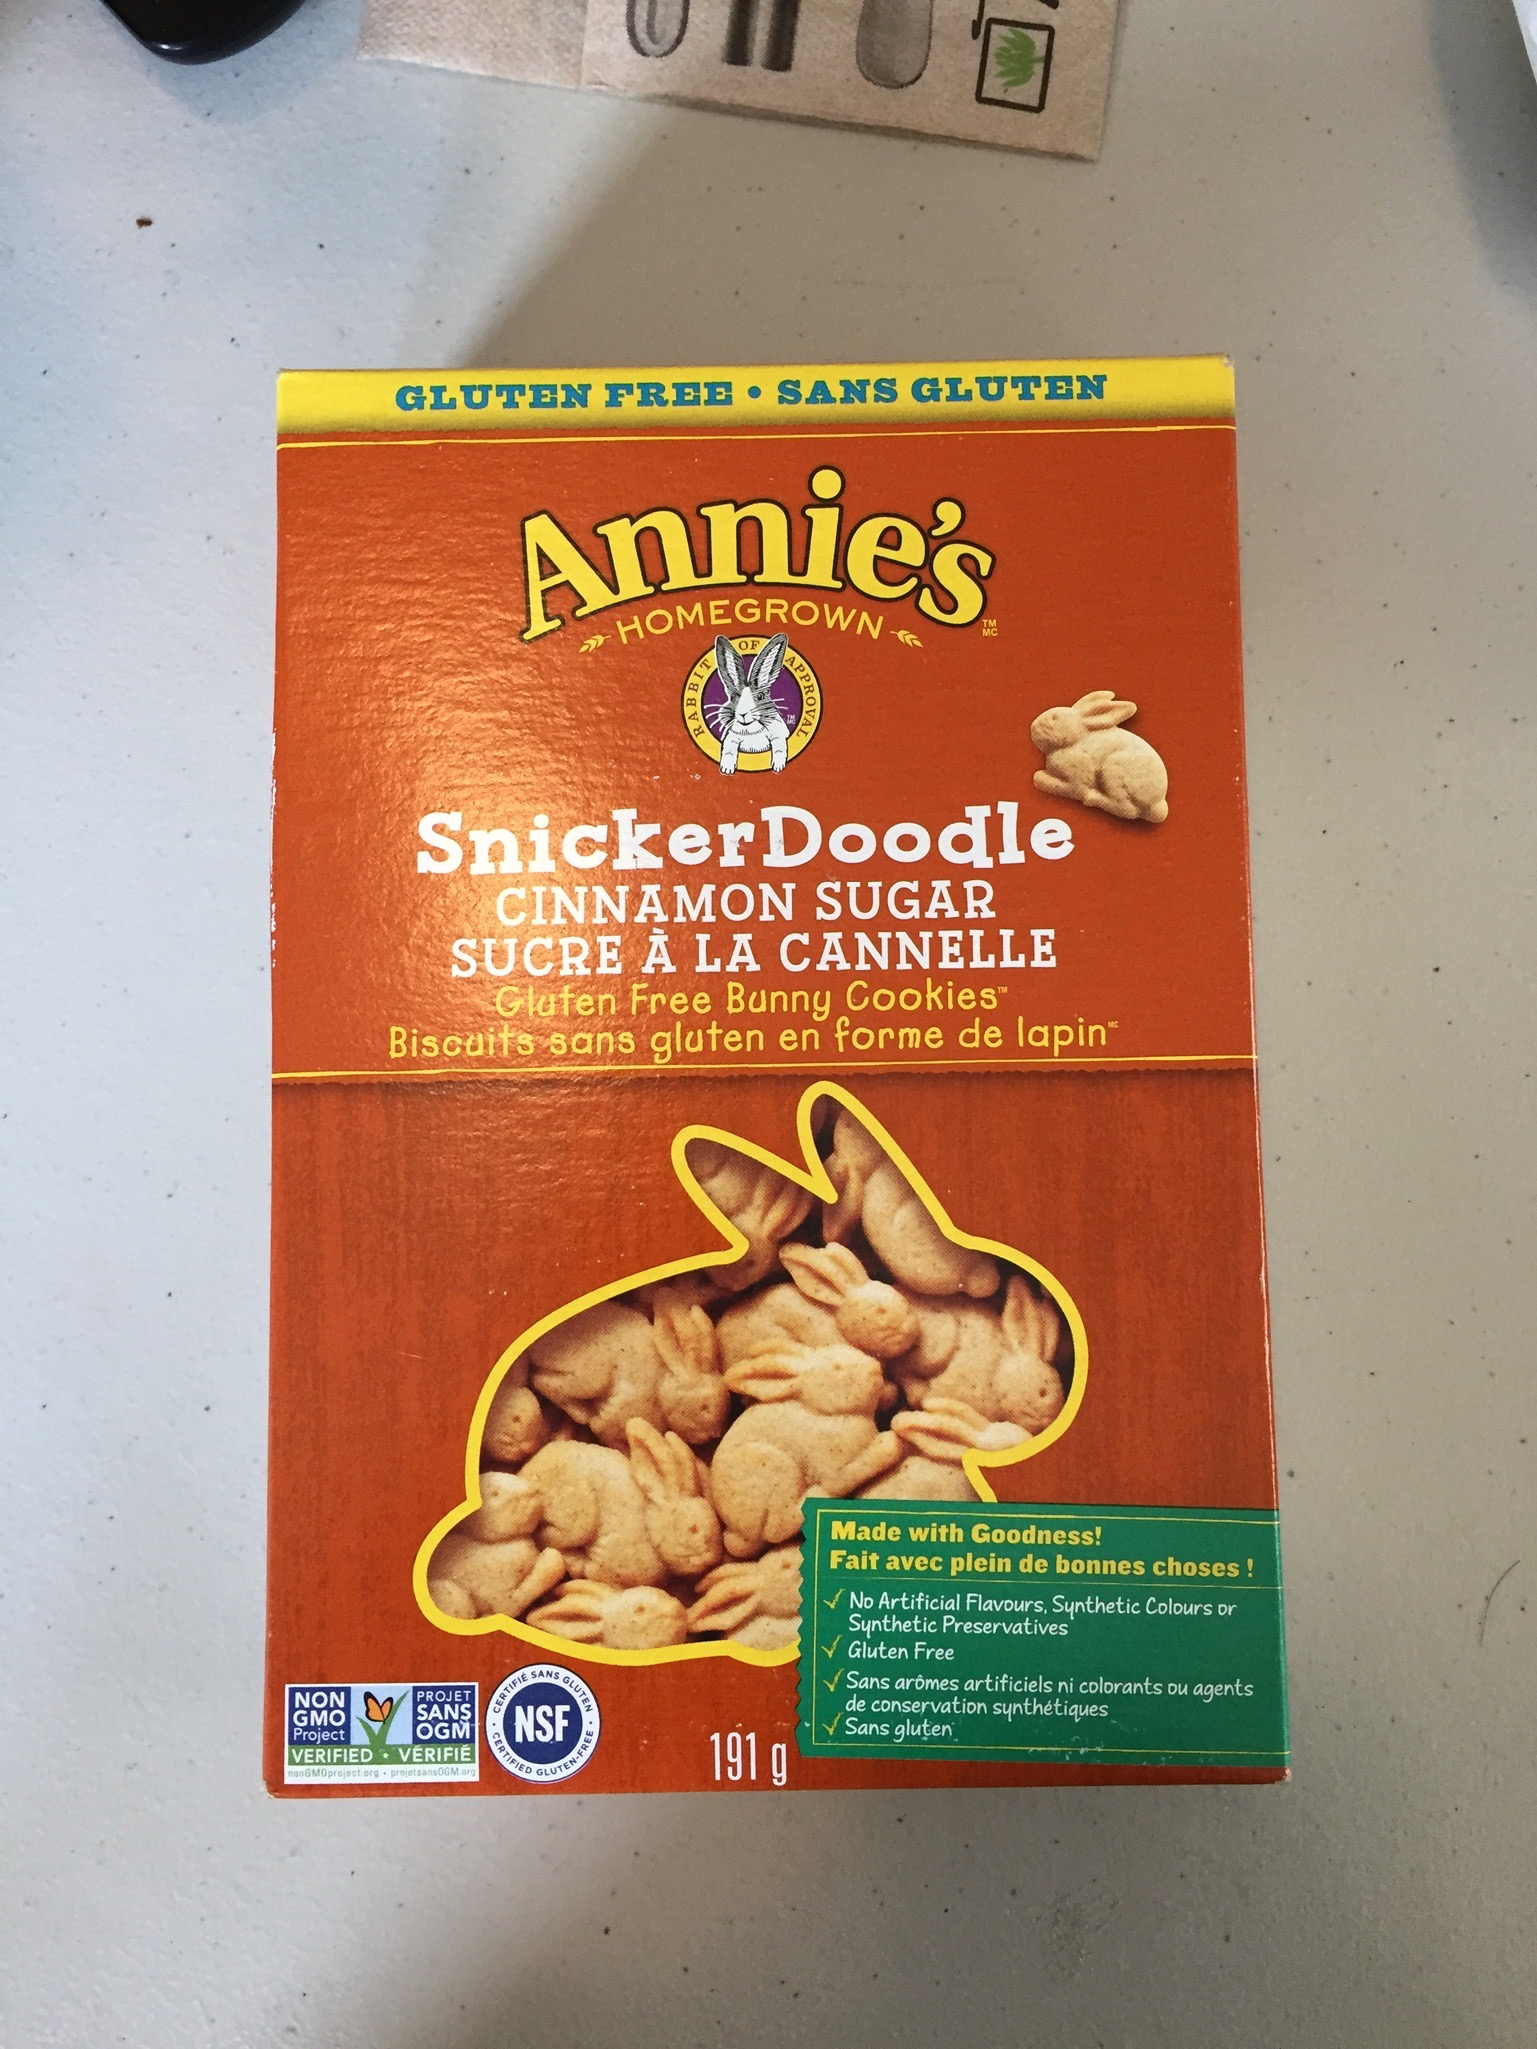annies_snickerdoodle_cinnamon_sugar: (283, 376, 1274, 1775)
